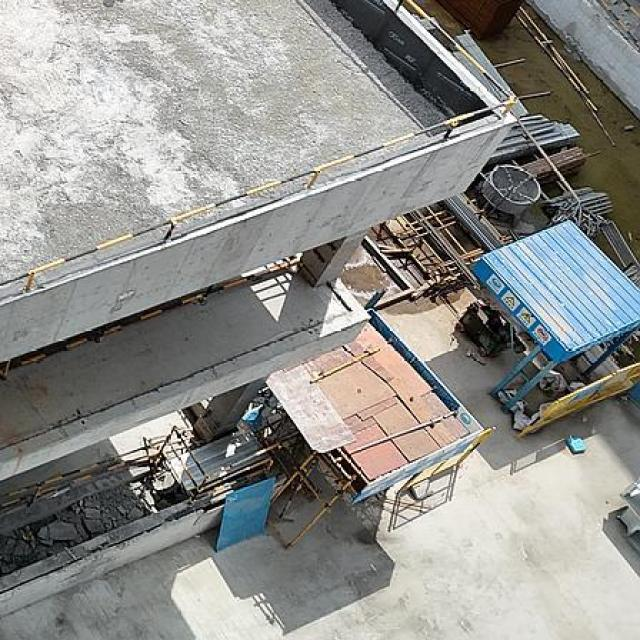Guardrail: (0, 0, 520, 294), (1, 257, 306, 376), (0, 444, 149, 512), (597, 0, 640, 46)
